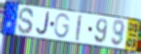9: (110, 19, 125, 48), (93, 18, 109, 45)
G: (53, 13, 71, 40)
I: (75, 14, 83, 43)
J: (35, 11, 51, 37)
S: (17, 7, 35, 36)
